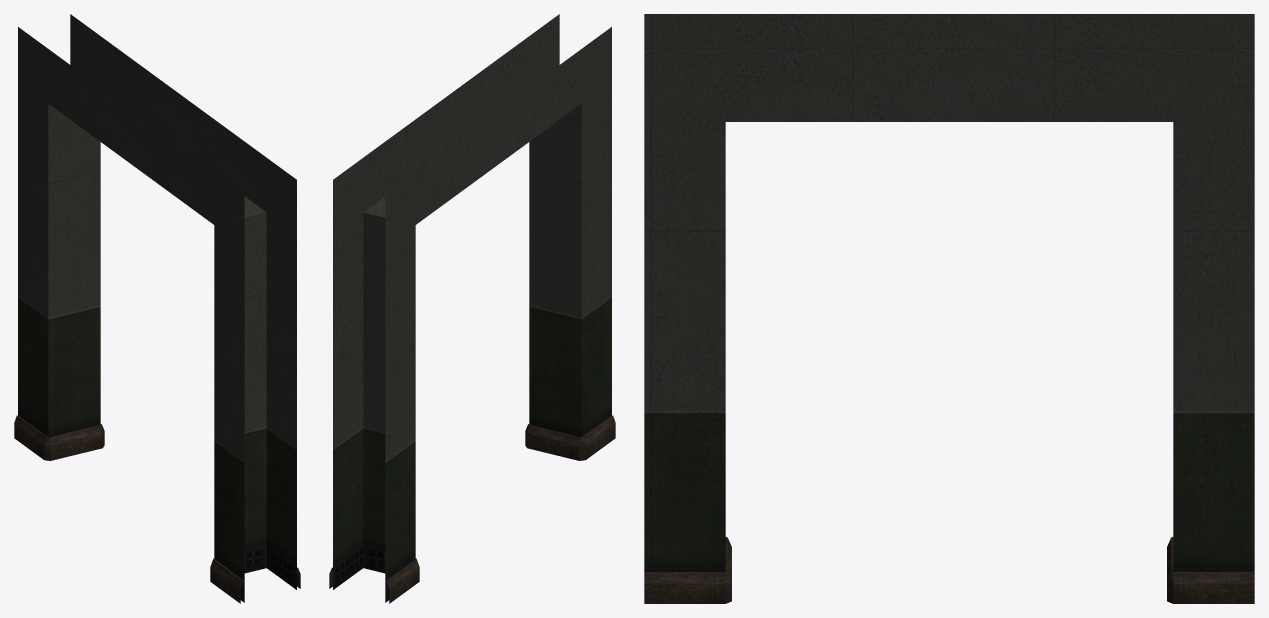
The model's file is arc_1_wall_2_1.obj.
The picture shows the model from 3 angles, left to right: view 1: azimuth 30°, elevation 25°; view 2: azimuth 150°, elevation 25°; view 3: azimuth 270°, elevation 25°; orthographic projection. The views are drawn at different scales.
Visible parts, largest first — view 1: arc_1_wall_2_1; view 2: arc_1_wall_2_1; view 3: arc_1_wall_2_1.
Part boxes in pixels (x1,y1,x2,y2): arc_1_wall_2_1: (14,14,300,603); arc_1_wall_2_1: (329,14,615,603); arc_1_wall_2_1: (644,14,1254,603).
Size of the model in its own units: 0.46 by 3 by 3.
